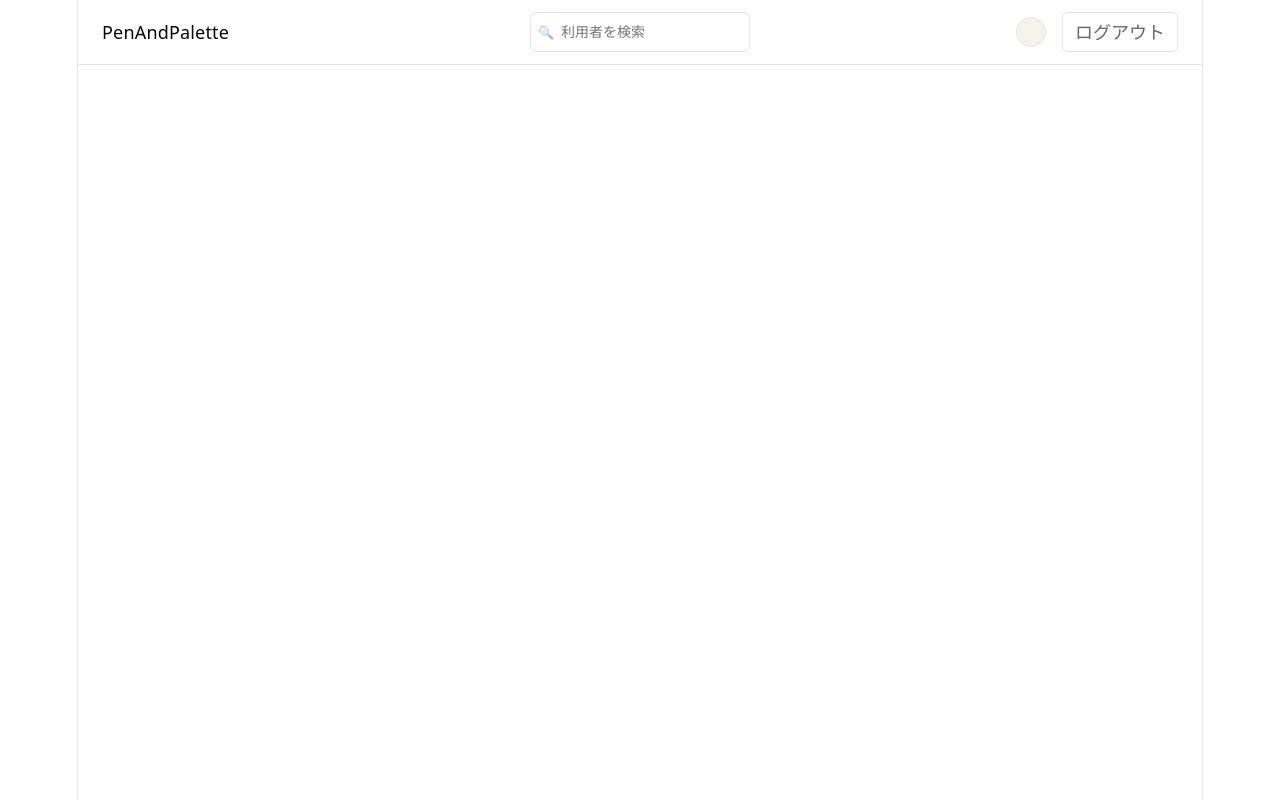
AppHeader › 入力を止めると自動的に検索して候補を出す（デバウンス）
In the search field with test id "header-search-input": (640, 32) [530,12,750,52], type "三郎"
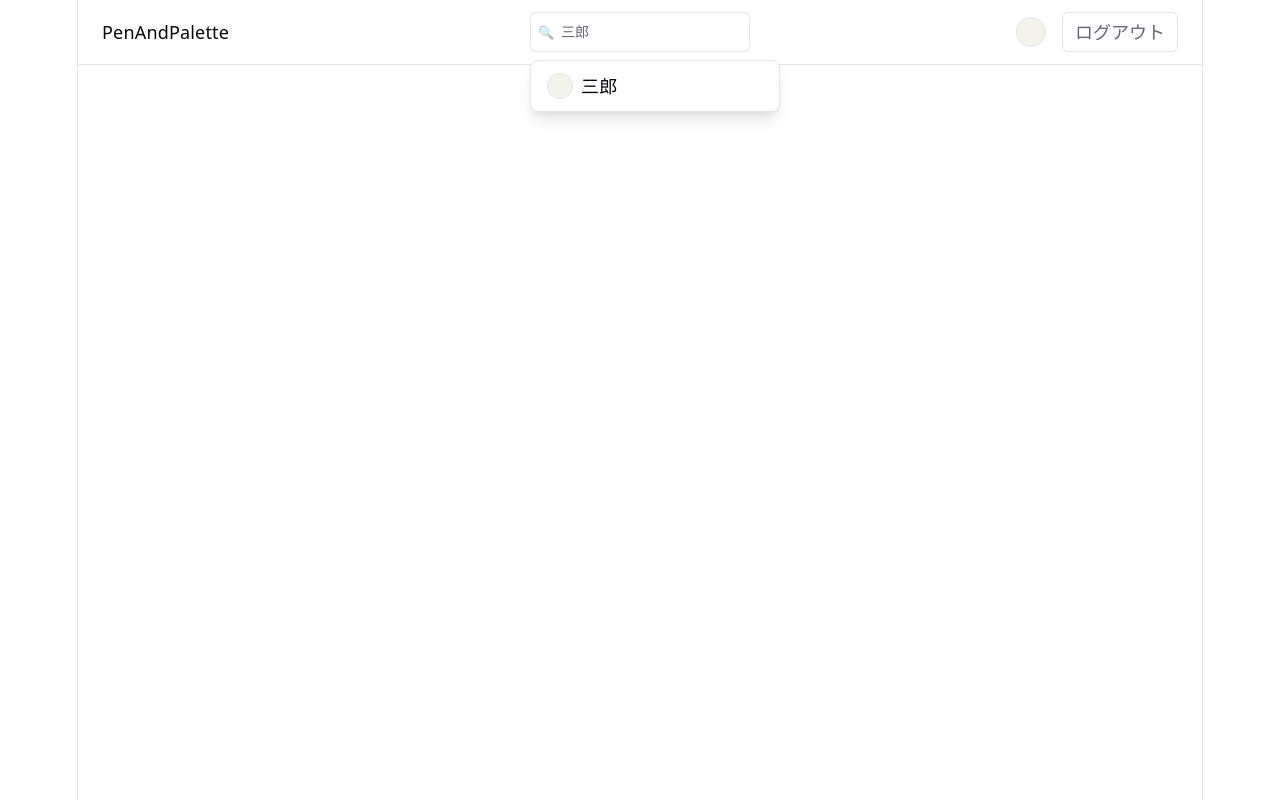
Check: the link with test id "header-search-item-3" is shown, box [547,73,617,99]
